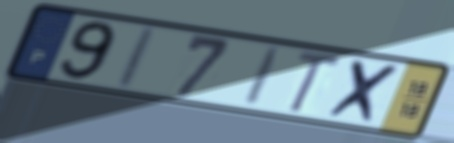7: (175, 31, 233, 100)
9: (57, 19, 120, 83)
I: (110, 24, 162, 93), (240, 44, 288, 109)
T: (285, 48, 347, 116)
X: (322, 57, 407, 127)
